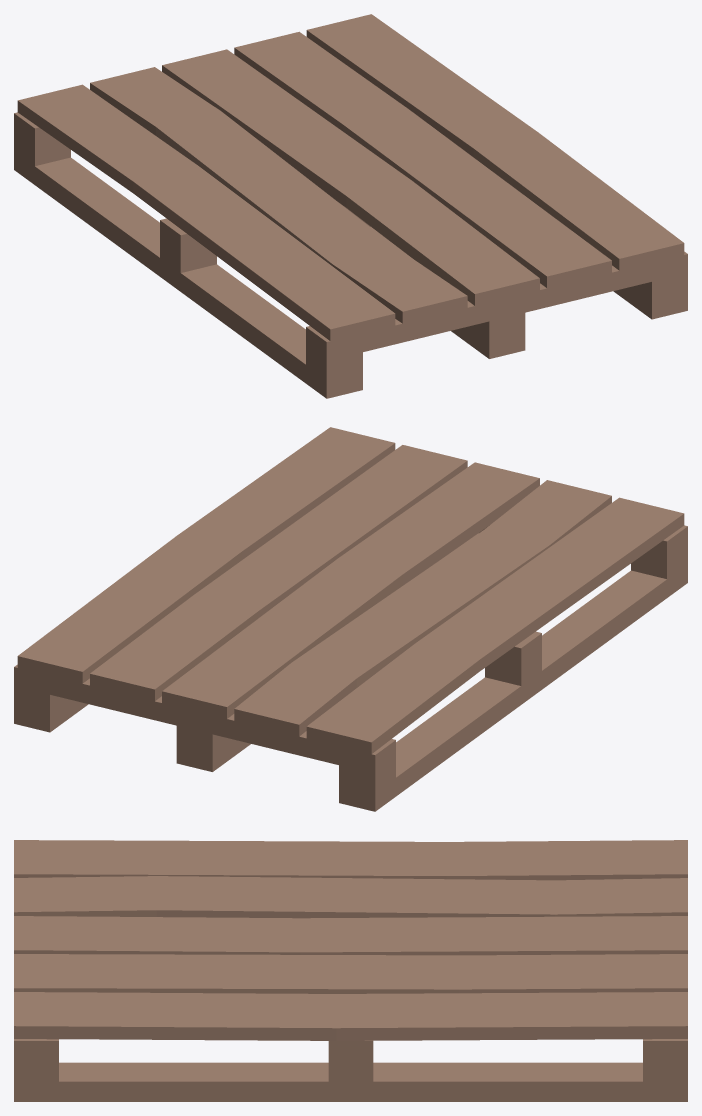
The model's file is pallet1.fbx.
The picture shows the model from 3 angles, top to bottom: view 1: azimuth 30°, elevation 25°; view 2: azimuth 150°, elevation 25°; view 3: azimuth 270°, elevation 25°; orthographic projection. The views are drawn at different scales.
Visible parts, largest first — view 1: Cube.001; view 2: Cube.001; view 3: Cube.001.
Boxes of the visible parts, box(x1,y1,x2,y2) form: Cube.001: box(14, 14, 687, 398); Cube.001: box(14, 427, 687, 811); Cube.001: box(14, 840, 687, 1101).
Size of the model in its own units: 200 by 36.29 by 300.
